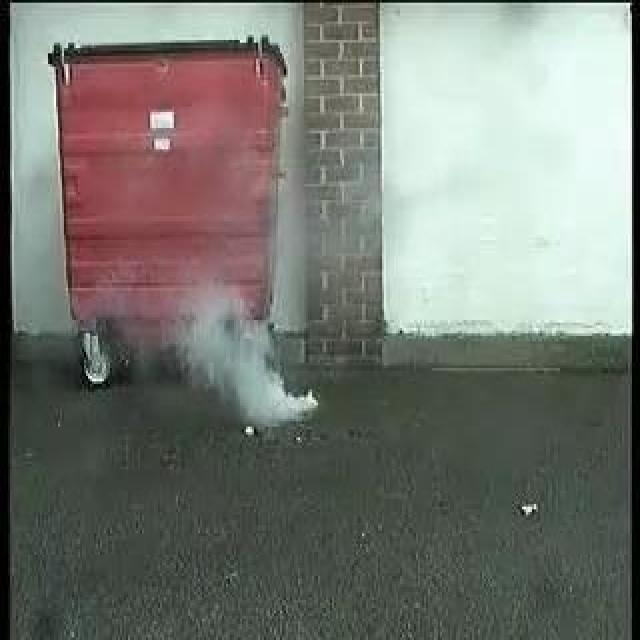Smoke: (180, 277, 320, 427)
